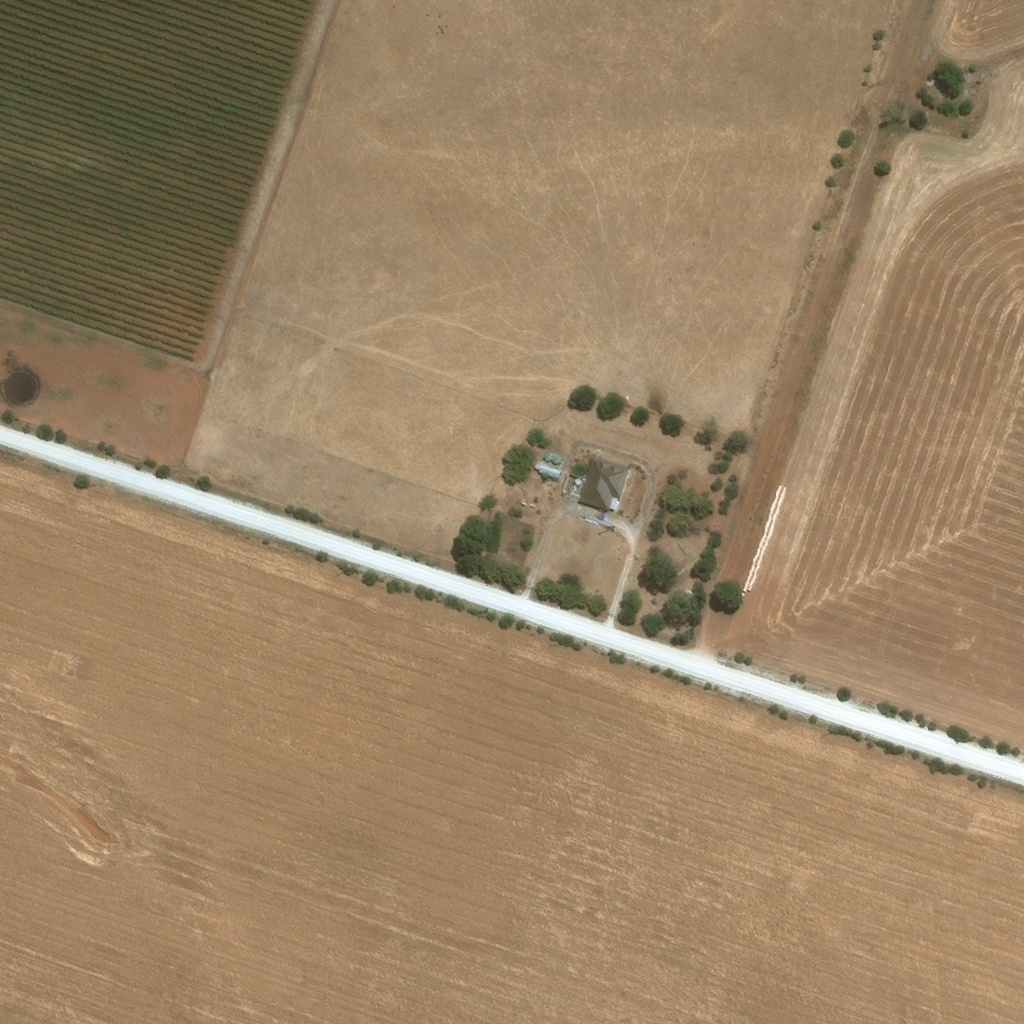0 no-damage: (577, 457, 627, 512), (534, 461, 561, 481), (550, 455, 560, 465), (541, 452, 551, 462)
